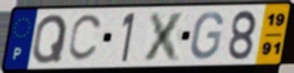1: (120, 11, 136, 64)
8: (227, 8, 258, 62)
C: (65, 13, 105, 64)
G: (188, 10, 225, 61)
Q: (30, 13, 70, 66)
X: (140, 10, 189, 63)
